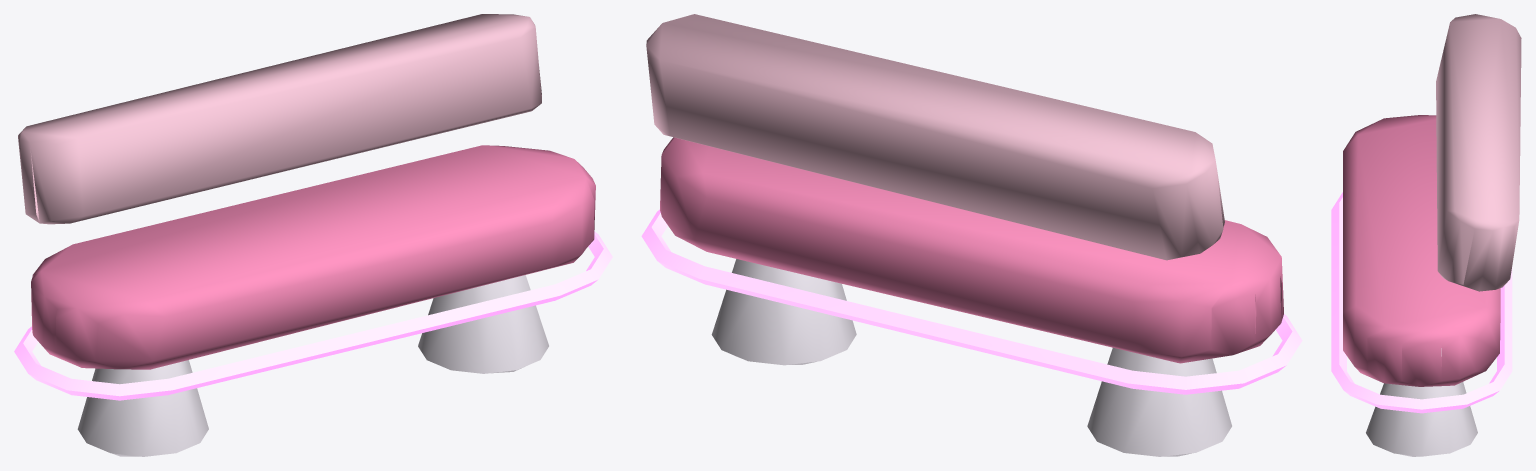
Rendered from lod_bench_bubble.glb.
3 renders of one model, left to right at view 1: azimuth 30°, elevation 25°; view 2: azimuth 150°, elevation 25°; view 3: azimuth 270°, elevation 25°, orthographic. The views are drawn at different scales.
Visible parts, largest first — view 1: bench_bubble; view 2: bench_bubble; view 3: bench_bubble.
Part boxes in pixels (x1,y1,x2,y2): bench_bubble: (14,14,612,456); bench_bubble: (641,14,1302,456); bench_bubble: (1331,14,1521,456).
Size of the model in its own units: 2.18 by 1.09 by 0.7355.
